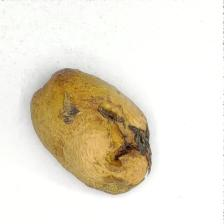NG: (98, 96, 152, 180), (54, 90, 88, 129)
